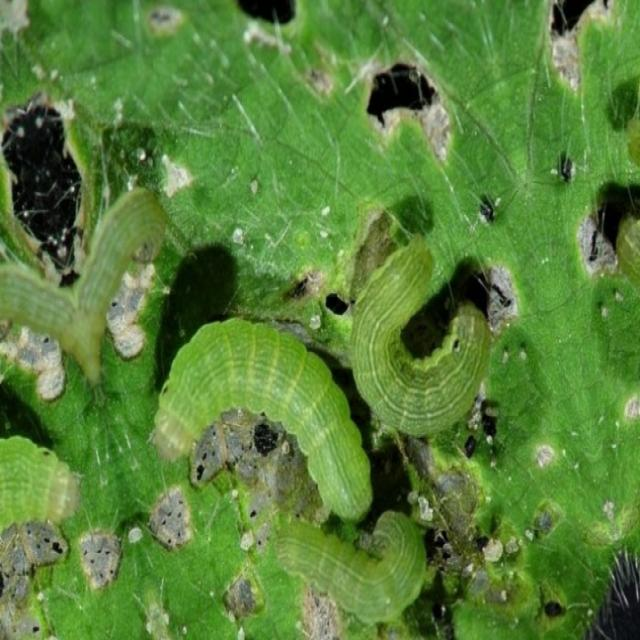armyworm: (152, 310, 371, 528), (348, 230, 491, 438), (265, 511, 434, 627)
